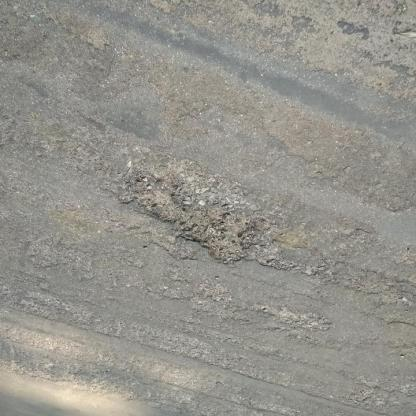pothole: (118, 172, 262, 270), (260, 306, 332, 334)
